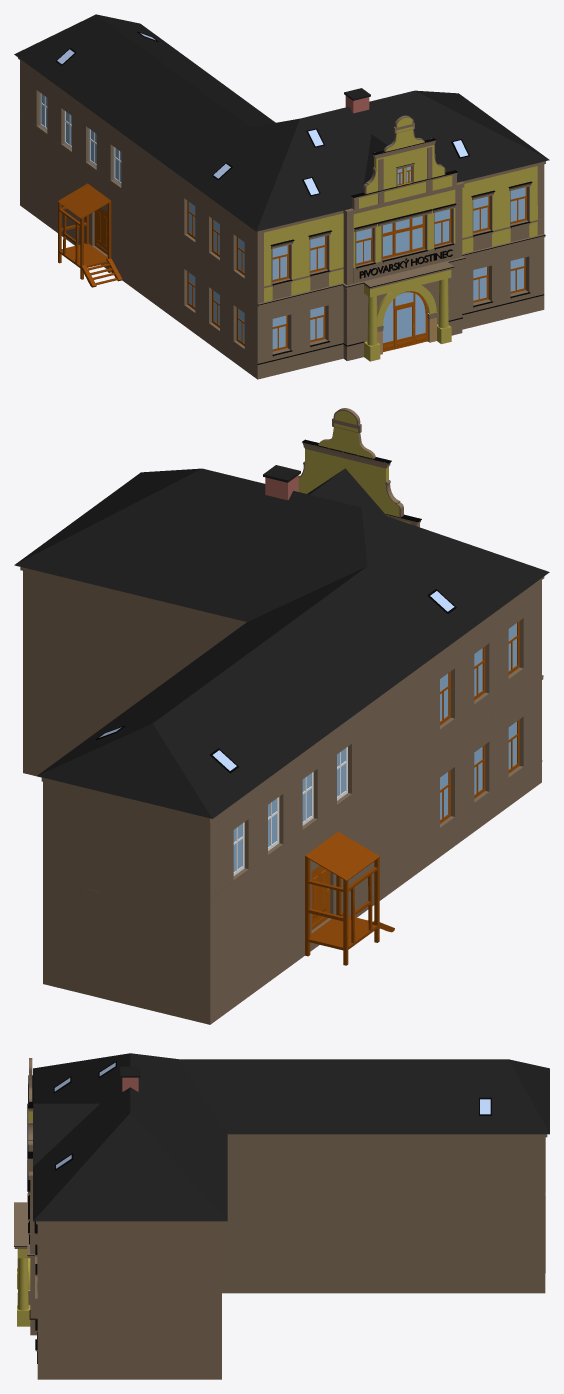
File: rebel.glb
The picture shows the model from 3 angles, top to bottom: view 1: azimuth 30°, elevation 25°; view 2: azimuth 150°, elevation 25°; view 3: azimuth 270°, elevation 25°; orthographic projection. The views are drawn at different scales.
Visible parts, largest first — view 1: budova, budova.002, Cube.001, Cube.002, okna, Cylinder.001, Text; view 2: budova, budova.002, Cube.002, Cube.001, okna; view 3: budova, budova.002, okna, Cube.001, Cylinder.001.
Part boxes in pixels (<box>): budova: <box>18,57,545,379</box>; budova.002: <box>14,14,549,231</box>; Cube.001: <box>351,115,458,209</box>; Cube.002: <box>58,183,122,287</box>; okna: <box>55,31,469,196</box>; Cylinder.001: <box>367,278,448,345</box>; Text: <box>359,249,452,278</box>; budova: <box>20,567,544,1024</box>; budova.002: <box>14,465,549,818</box>; Cube.002: <box>305,831,394,965</box>; Cube.001: <box>298,408,421,527</box>; okna: <box>96,589,456,773</box>; budova: <box>14,1134,547,1379</box>; budova.002: <box>33,1053,549,1221</box>; okna: <box>53,1061,491,1170</box>; Cube.001: <box>27,1058,33,1171</box>; Cylinder.001: <box>17,1258,28,1310</box>.
Size of the model in its own units: 4.28 by 2.95 by 5.82.
